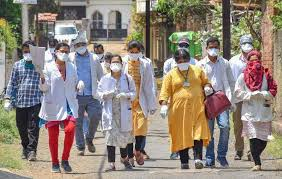mask: (245, 50, 261, 70), (125, 41, 140, 60), (176, 50, 189, 70), (206, 37, 219, 57), (23, 40, 35, 60), (55, 42, 68, 59), (242, 37, 253, 53), (74, 41, 87, 53), (111, 56, 121, 71), (95, 45, 104, 59), (105, 52, 111, 65)
